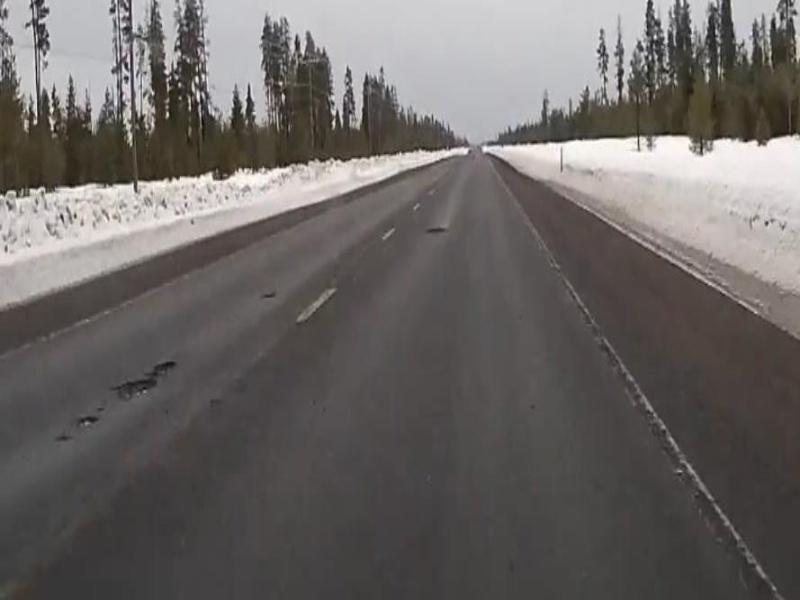pothole: (113, 360, 174, 401)
